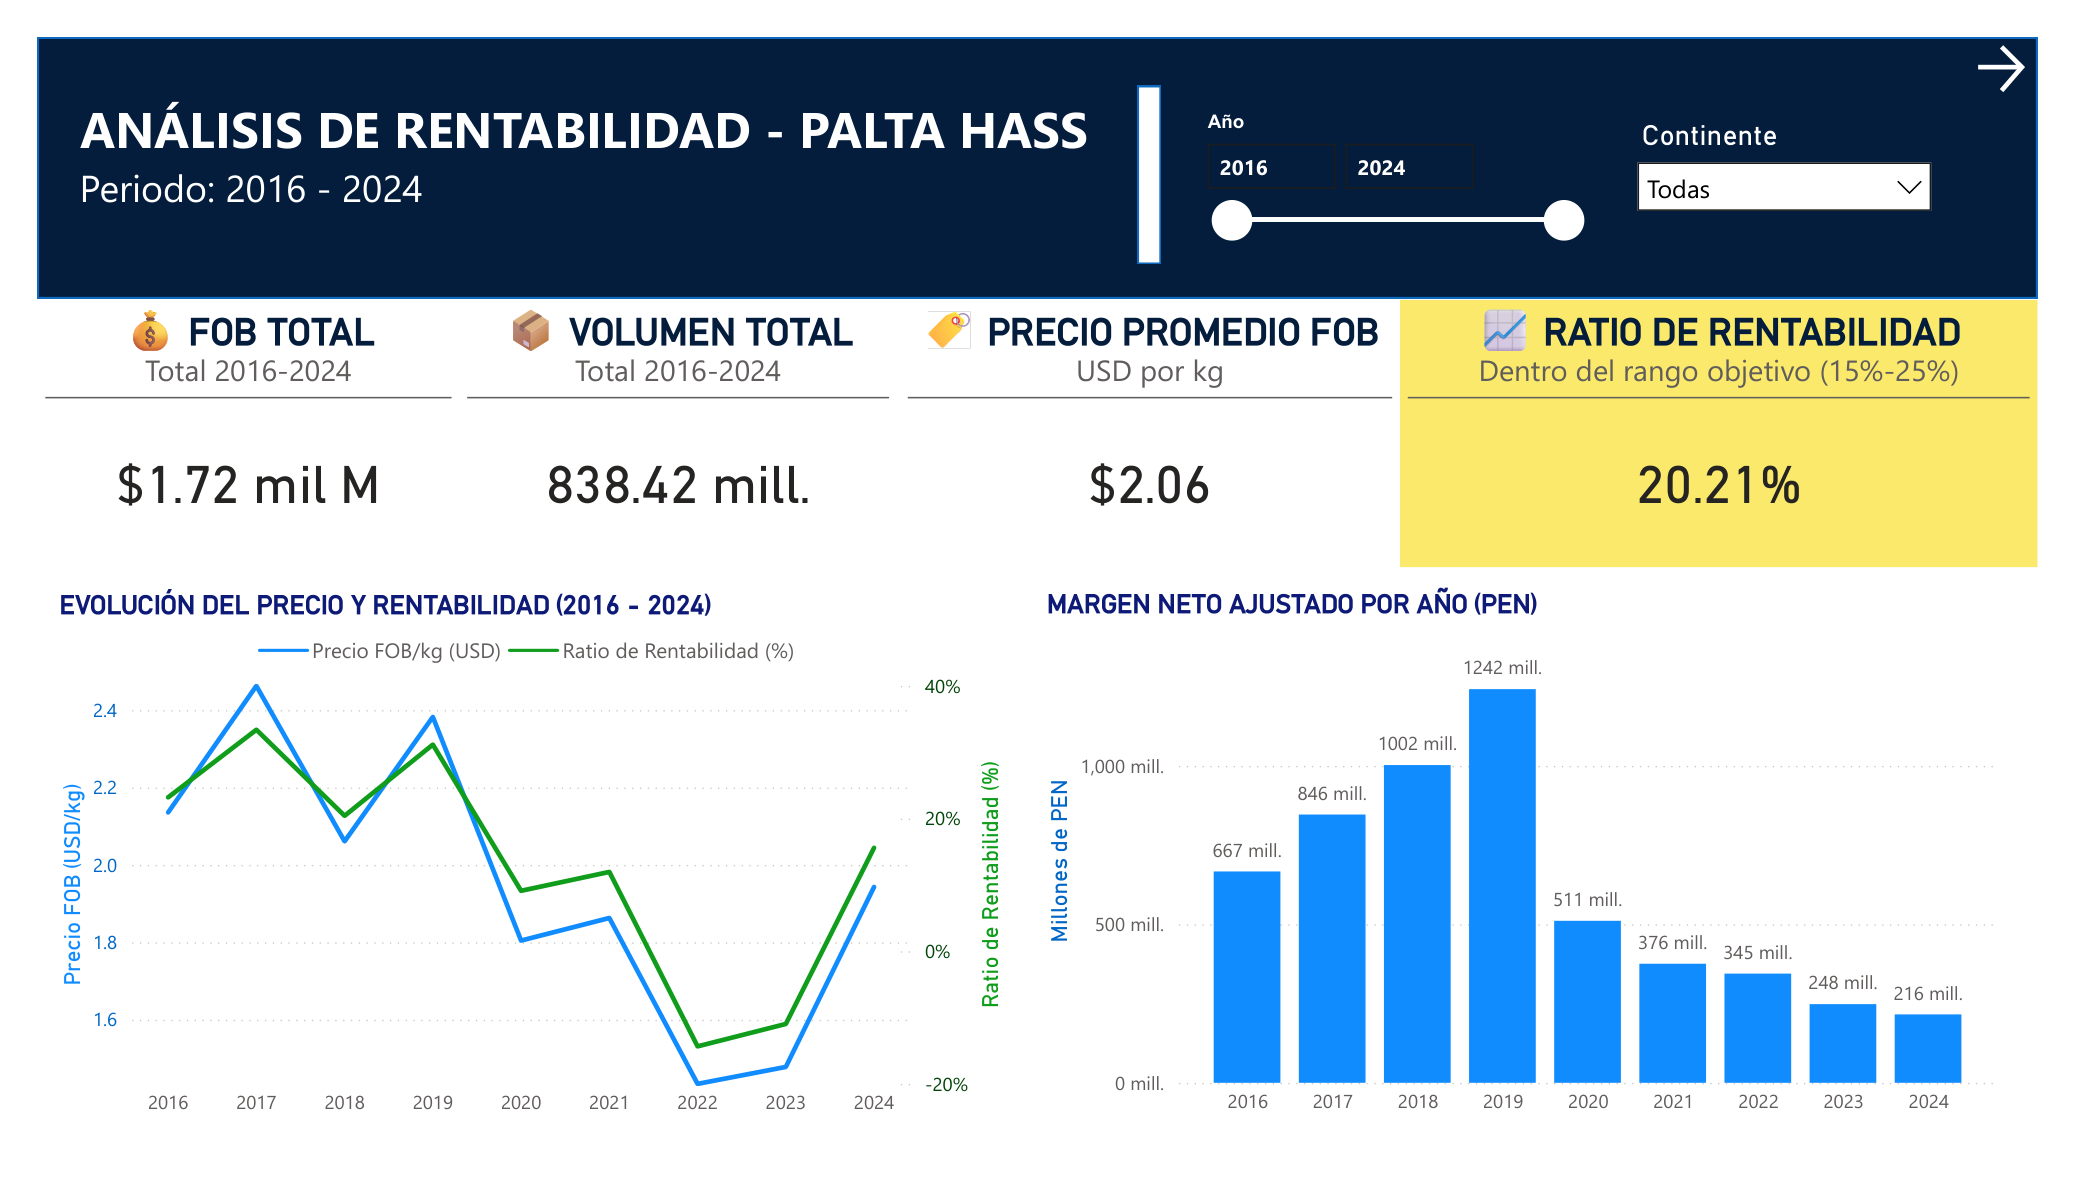

The page's visual inventory and layout, read from the dashboard file:
{"tool":"powerbi","page":{"name":"1. Resumen Ejecutivo","canvas":[1280,720],"ordinal":0},"visuals":[{"type":"card","fields":{"Values":["public FACT_RENTABILIDAD.Ingreso FOB Total (USD)"]},"box":[23.5,25.6,230.4,123.7],"z":0},{"type":"card","fields":{"Values":["public FACT_RENTABILIDAD.Volumen Total (kg)"]},"box":[253.9,25.6,213.3,123.7],"z":1000},{"type":"card","fields":{"Values":["public FACT_RENTABILIDAD.Precio FOB/kg (USD)"]},"box":[467.2,25.6,211.2,123.7],"z":2000},{"type":"lineChart","fields":{"Category":["public DIM_TIEMPO.Año"],"Y":["public FACT_RENTABILIDAD.Ingreso FOB Total (USD)"]},"box":[42.7,170.7,552.5,266.7],"z":3000},{"type":"lineChart","fields":{"Category":["public DIM_TIEMPO.Año"],"Y":["public FACT_RENTABILIDAD.Ratio de Rentabilidad (%)"]},"box":[42.7,436.3,552.5,283.7],"z":4000},{"type":"clusteredBarChart","fields":{"Category":["public DIM_UBICACION.Pais_Nombre"],"Y":["public FACT_RENTABILIDAD.Ingreso FOB Total (USD)"]},"box":[663.5,170.7,597.3,266.7],"z":5000},{"type":"textbox","box":[641.1,436.7,638.9,284],"z":6000}]}

Visuals, with their boxes on the page's 1280x720 design canvas (x1, y1, x2, y2). These are canvas units, not pixel positions in the 2075x1200 screenshot, which may show the page scaled, cropped or inside an application window:
card - public FACT_RENTABILIDAD.Ingreso FOB Total (USD): select_region(24, 26, 254, 149)
card - public FACT_RENTABILIDAD.Volumen Total (kg): select_region(254, 26, 467, 149)
card - public FACT_RENTABILIDAD.Precio FOB/kg (USD): select_region(467, 26, 678, 149)
lineChart - public DIM_TIEMPO.Año x public FACT_RENTABILIDAD.Ingreso FOB Total (USD): select_region(43, 171, 595, 437)
lineChart - public DIM_TIEMPO.Año x public FACT_RENTABILIDAD.Ratio de Rentabilidad (%): select_region(43, 436, 595, 720)
clusteredBarChart - public DIM_UBICACION.Pais_Nombre x public FACT_RENTABILIDAD.Ingreso FOB Total (USD): select_region(664, 171, 1261, 437)
textbox: select_region(641, 437, 1280, 721)
